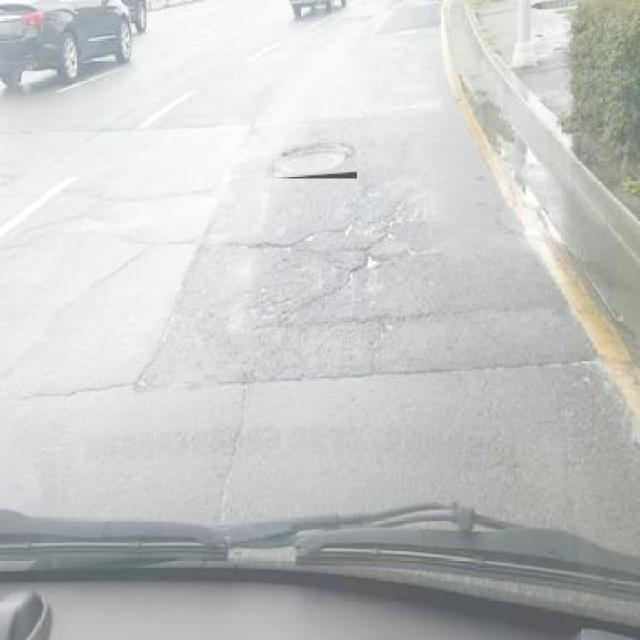Manhole: (272, 143, 357, 179)
Pothole: (360, 252, 387, 274)
